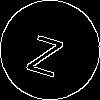Z: (25, 25, 68, 78)
